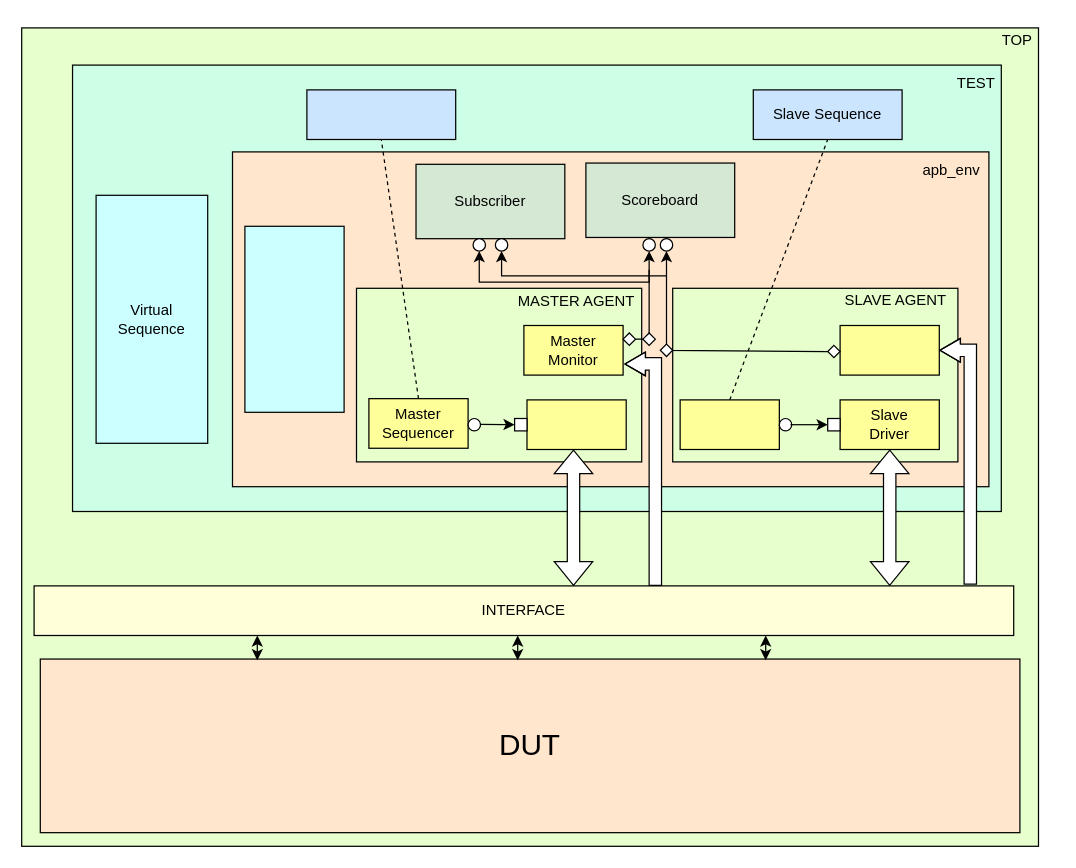
This 1076x868 diagram has some shape labels left out. Here are the shapes that lost their labels. From the top down, the box of each, then its label:
(306, 89, 456, 140): Master Sequence
(244, 225, 344, 412): Virtual Sequencer
(839, 324, 939, 375): Slave Monitor
(526, 399, 626, 450): Master Driver
(679, 399, 779, 450): Slave Sequencer
